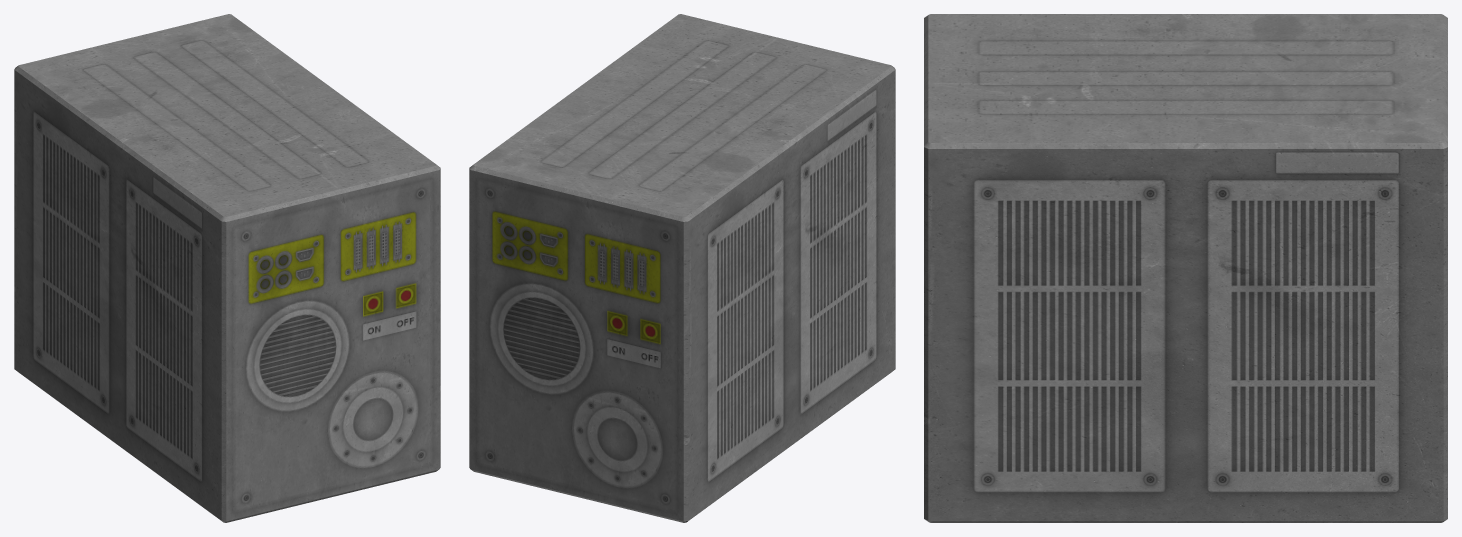
The model's file is SM_CoolingDevice.fbx.
3 renders of one model, left to right at view 1: azimuth 30°, elevation 25°; view 2: azimuth 150°, elevation 25°; view 3: azimuth 270°, elevation 25°, orthographic. The views are drawn at different scales.
Visible parts, largest first — view 1: SM_CoolingDevice_LOD0; view 2: SM_CoolingDevice_LOD0; view 3: SM_CoolingDevice_LOD0.
Part boxes in pixels (x1,y1,x2,y2): SM_CoolingDevice_LOD0: (14, 14, 440, 522); SM_CoolingDevice_LOD0: (469, 14, 895, 522); SM_CoolingDevice_LOD0: (924, 14, 1447, 522).
Size of the model in its own units: 92.25 by 154 by 123.
1 material, 1 textured.
